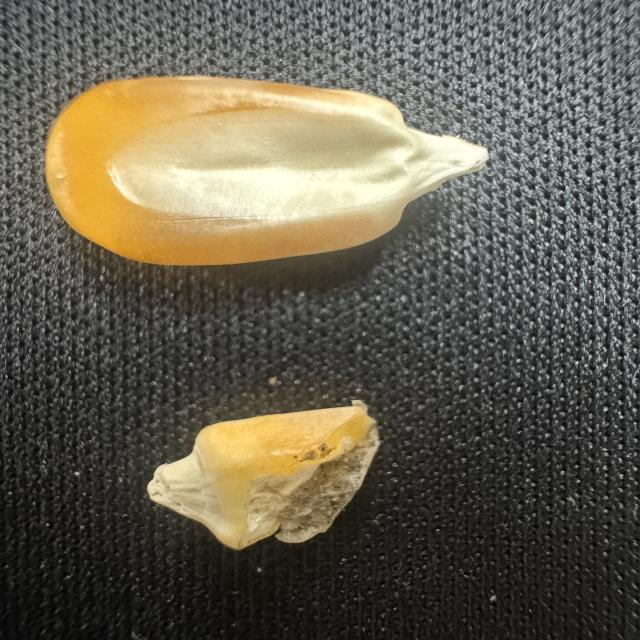Bad-Seed: (124, 381, 408, 563)
Good-Seed: (34, 65, 496, 272)
